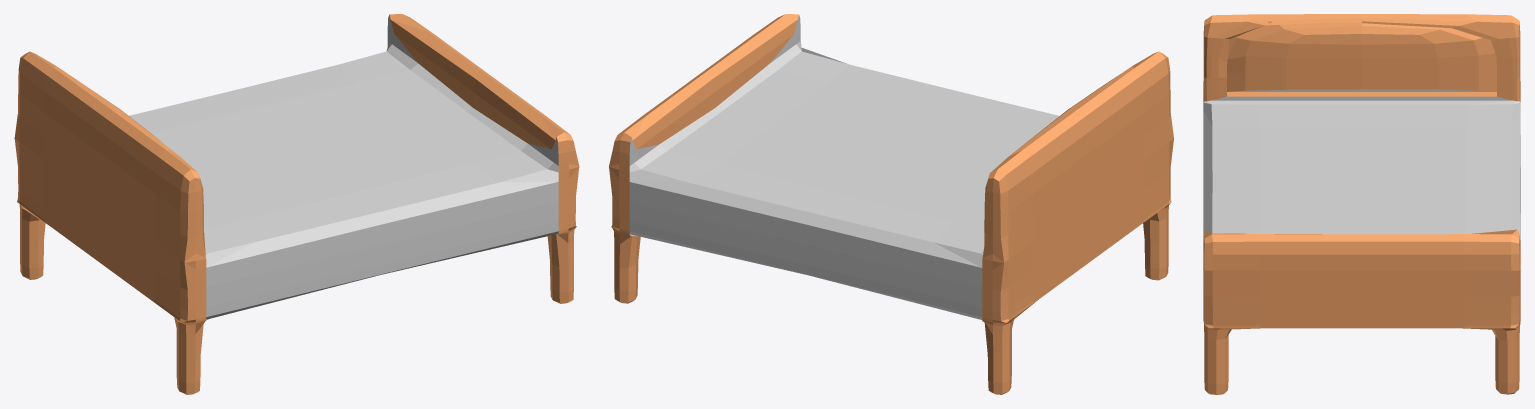
File: Kasur.fbx
3 views of the same model, side by side, from view 1: azimuth 30°, elevation 25°; view 2: azimuth 150°, elevation 25°; view 3: azimuth 270°, elevation 25° (orthographic). The views are drawn at different scales.
Visible parts, largest first — view 1: Tempat tidur, Tempat tidur.001; view 2: Tempat tidur, Tempat tidur.001; view 3: Tempat tidur.001, Tempat tidur.
Part boxes in pixels (left/top/right/bottom): Tempat tidur: left=129, top=15, right=558, bottom=320; Tempat tidur.001: left=14, top=14, right=579, bottom=394; Tempat tidur: left=629, top=15, right=1121, bottom=319; Tempat tidur.001: left=609, top=14, right=1173, bottom=394; Tempat tidur.001: left=1203, top=14, right=1520, bottom=394; Tempat tidur: left=1203, top=21, right=1520, bottom=242.
Size of the model in its own units: 200 by 109 by 150.
